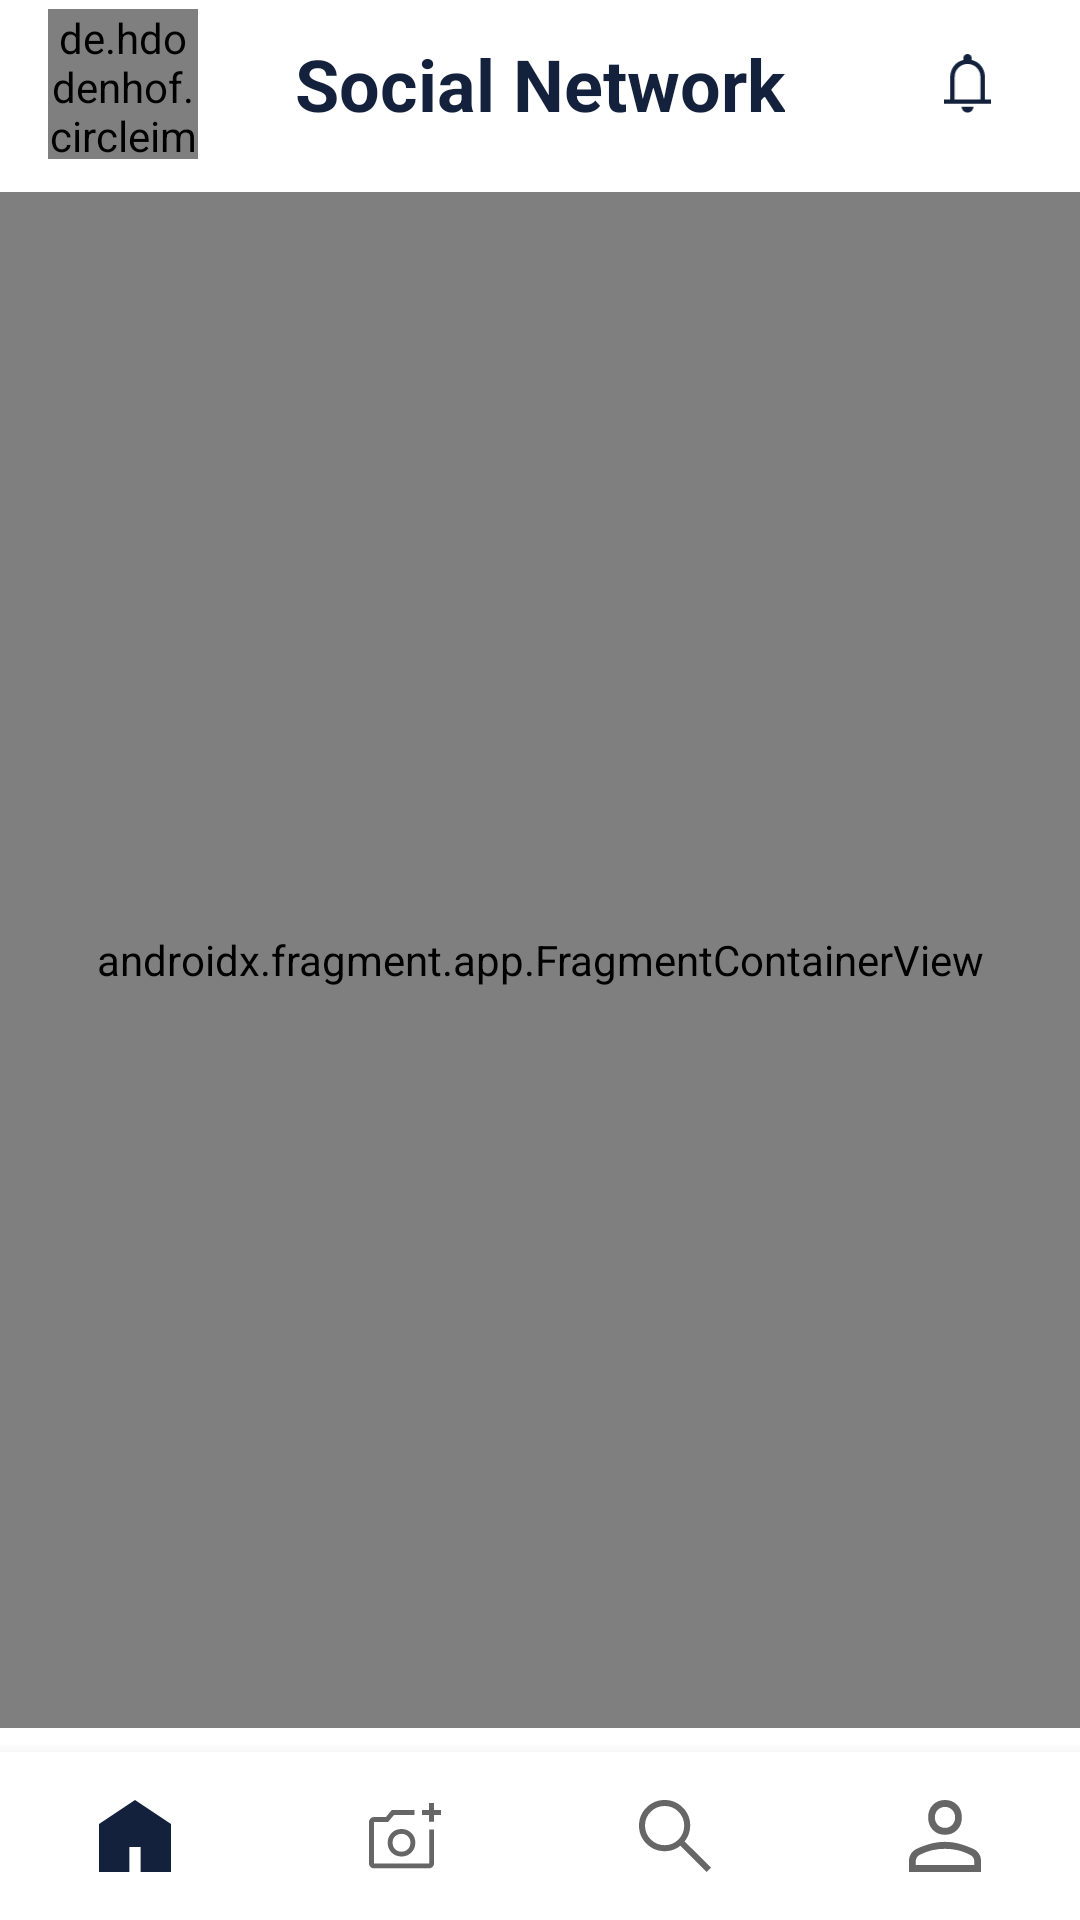

Where icons sit on this 1080px x 1920px app screen, as BBox(x1, y1, x2, y2):
notification: BBox(944, 54, 991, 113)
